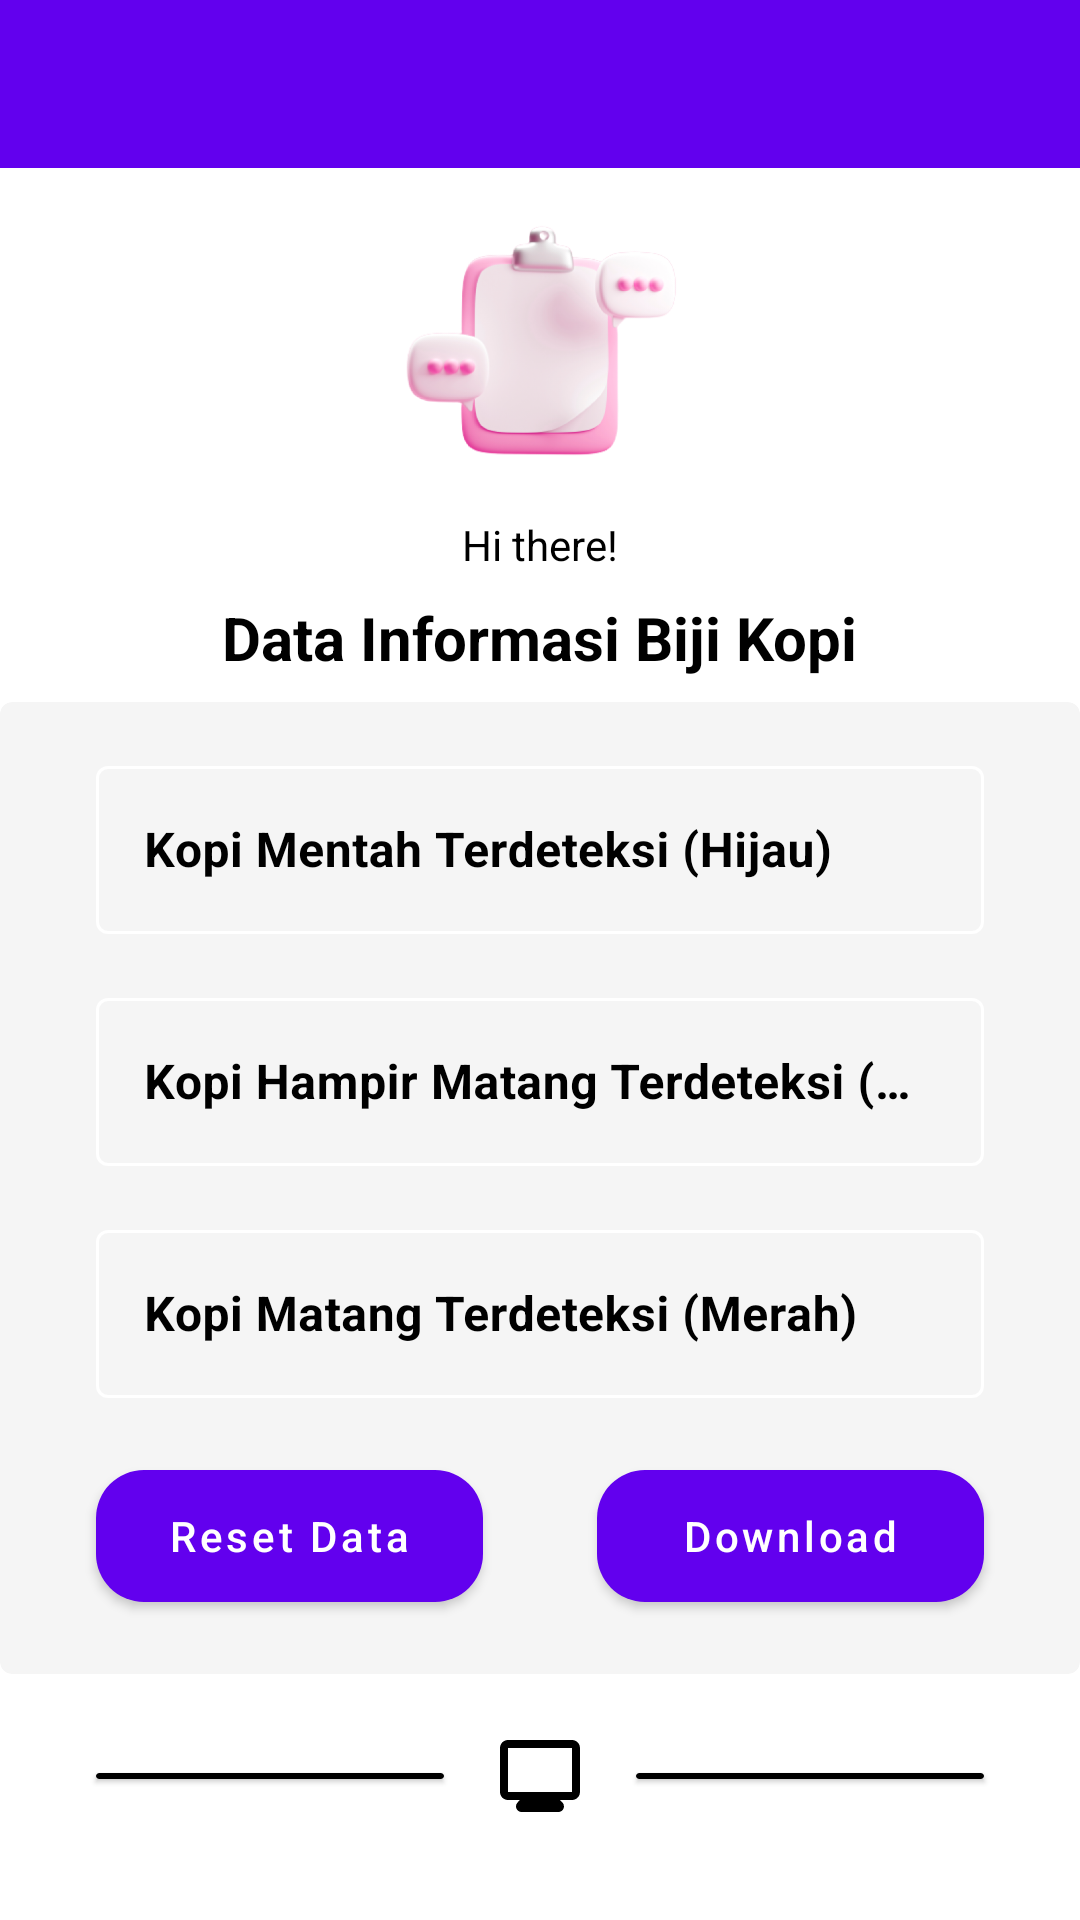

Icons on this 1080×1920 Android screen, each with the point to tap as (x,y):
monitor: (540,1776)
notes: (535,343)
